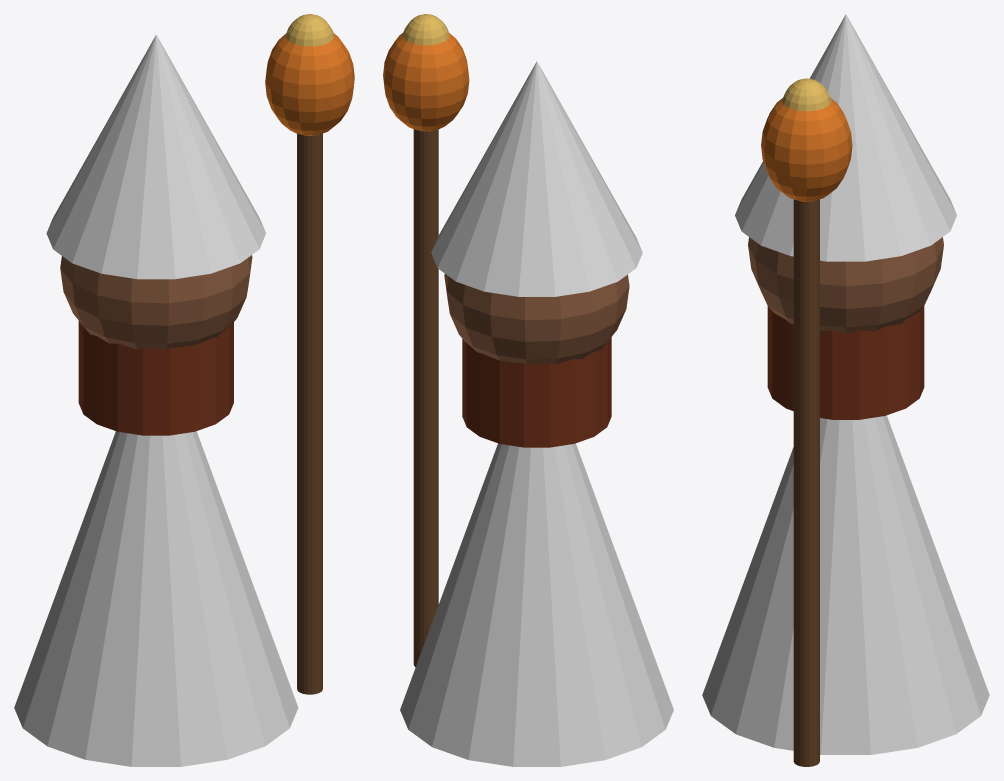
The model's file is ember.43d21356.glb.
The picture shows the model from 3 angles, left to right: view 1: azimuth 30°, elevation 25°; view 2: azimuth 150°, elevation 25°; view 3: azimuth 270°, elevation 25°; orthographic projection. The views are drawn at different scales.
Parts seen in each view (by area): view 1: accent, body; view 2: accent, body; view 3: accent, body.
Boxes of the visible parts, <box> form: accent: <box>14,34,298,766</box>; body: <box>60,14,354,694</box>; accent: <box>400,61,673,766</box>; body: <box>383,14,629,666</box>; accent: <box>702,14,989,754</box>; body: <box>748,78,943,766</box>.
Size of the model in its own units: 0.5267 by 1.15 by 0.44.
